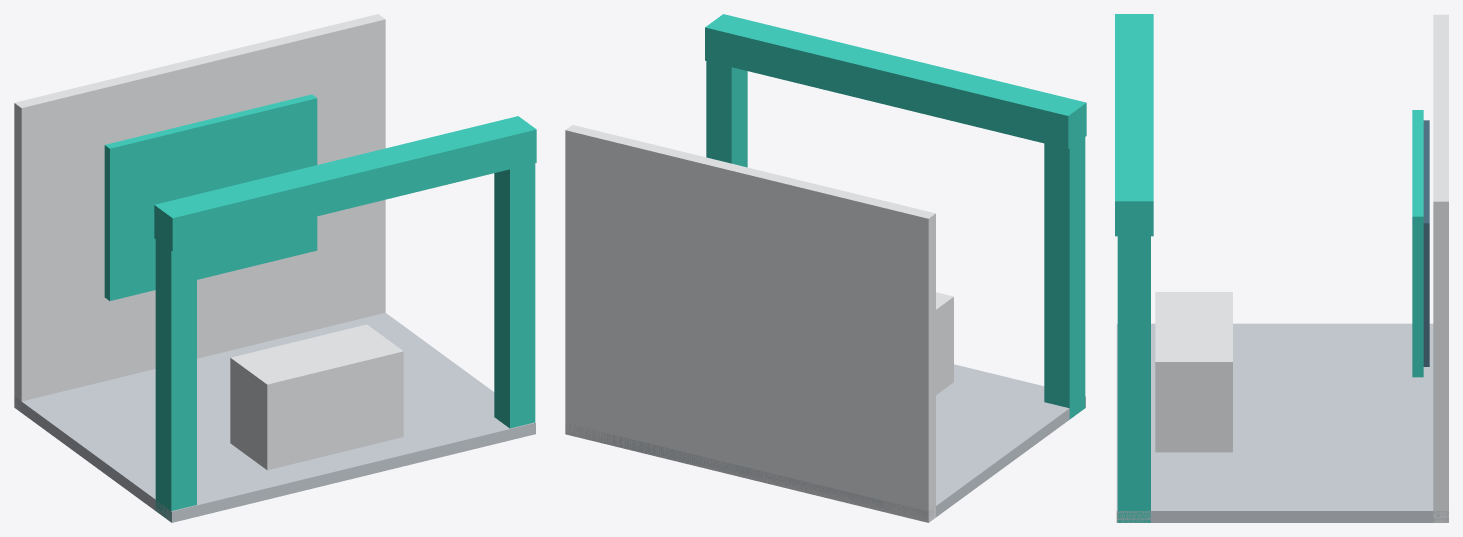
3 views of the same model, side by side, from view 1: azimuth 30°, elevation 25°; view 2: azimuth 150°, elevation 25°; view 3: azimuth 270°, elevation 25° (orthographic). The views are drawn at different scales.
Visible parts, largest first — view 1: Exhibition Booth Concept; view 2: Exhibition Booth Concept; view 3: Exhibition Booth Concept.
Boxes of the visible parts, x1=… form: Exhibition Booth Concept: x1=14, y1=14, x2=536, y2=522; Exhibition Booth Concept: x1=565, y1=14, x2=1086, y2=522; Exhibition Booth Concept: x1=1115, y1=14, x2=1448, y2=522.
Size of the model in its own units: 4 by 3.2 by 3.01.
